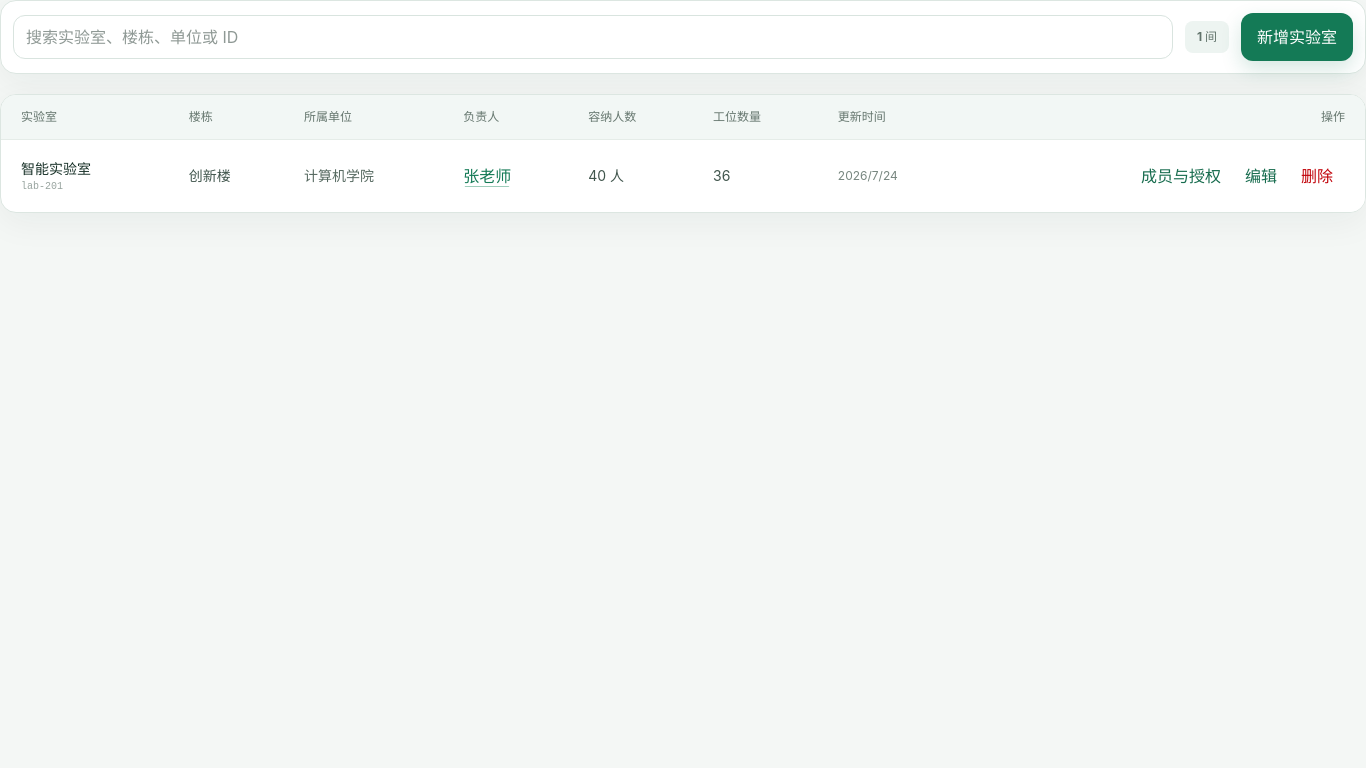
Test: LaboratoryManagement › renders configured extra columns and opens manager details
Check: the column heading "容纳人数" is shown, box [572,95,697,140]
Check: the text "40 人" is shown, box [588,167,624,184]
Click the button "张老师" at (487,176), box [463,164,511,188]
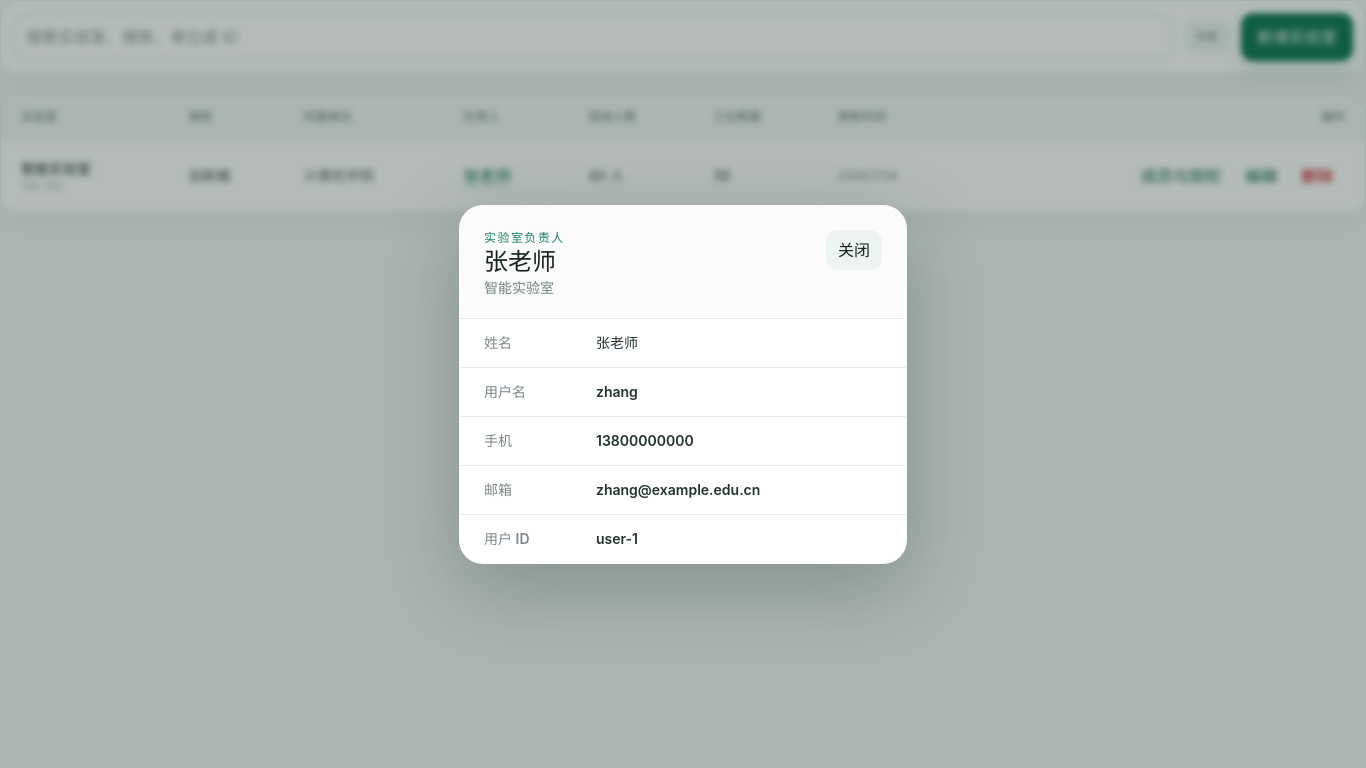
Check: the dialog named "张老师的负责人详情" is shown
Check: the text "13800000000" is shown, box [596,432,694,448]
Check: the text "zhang@example.edu.cn" is shown, box [596,480,760,498]
